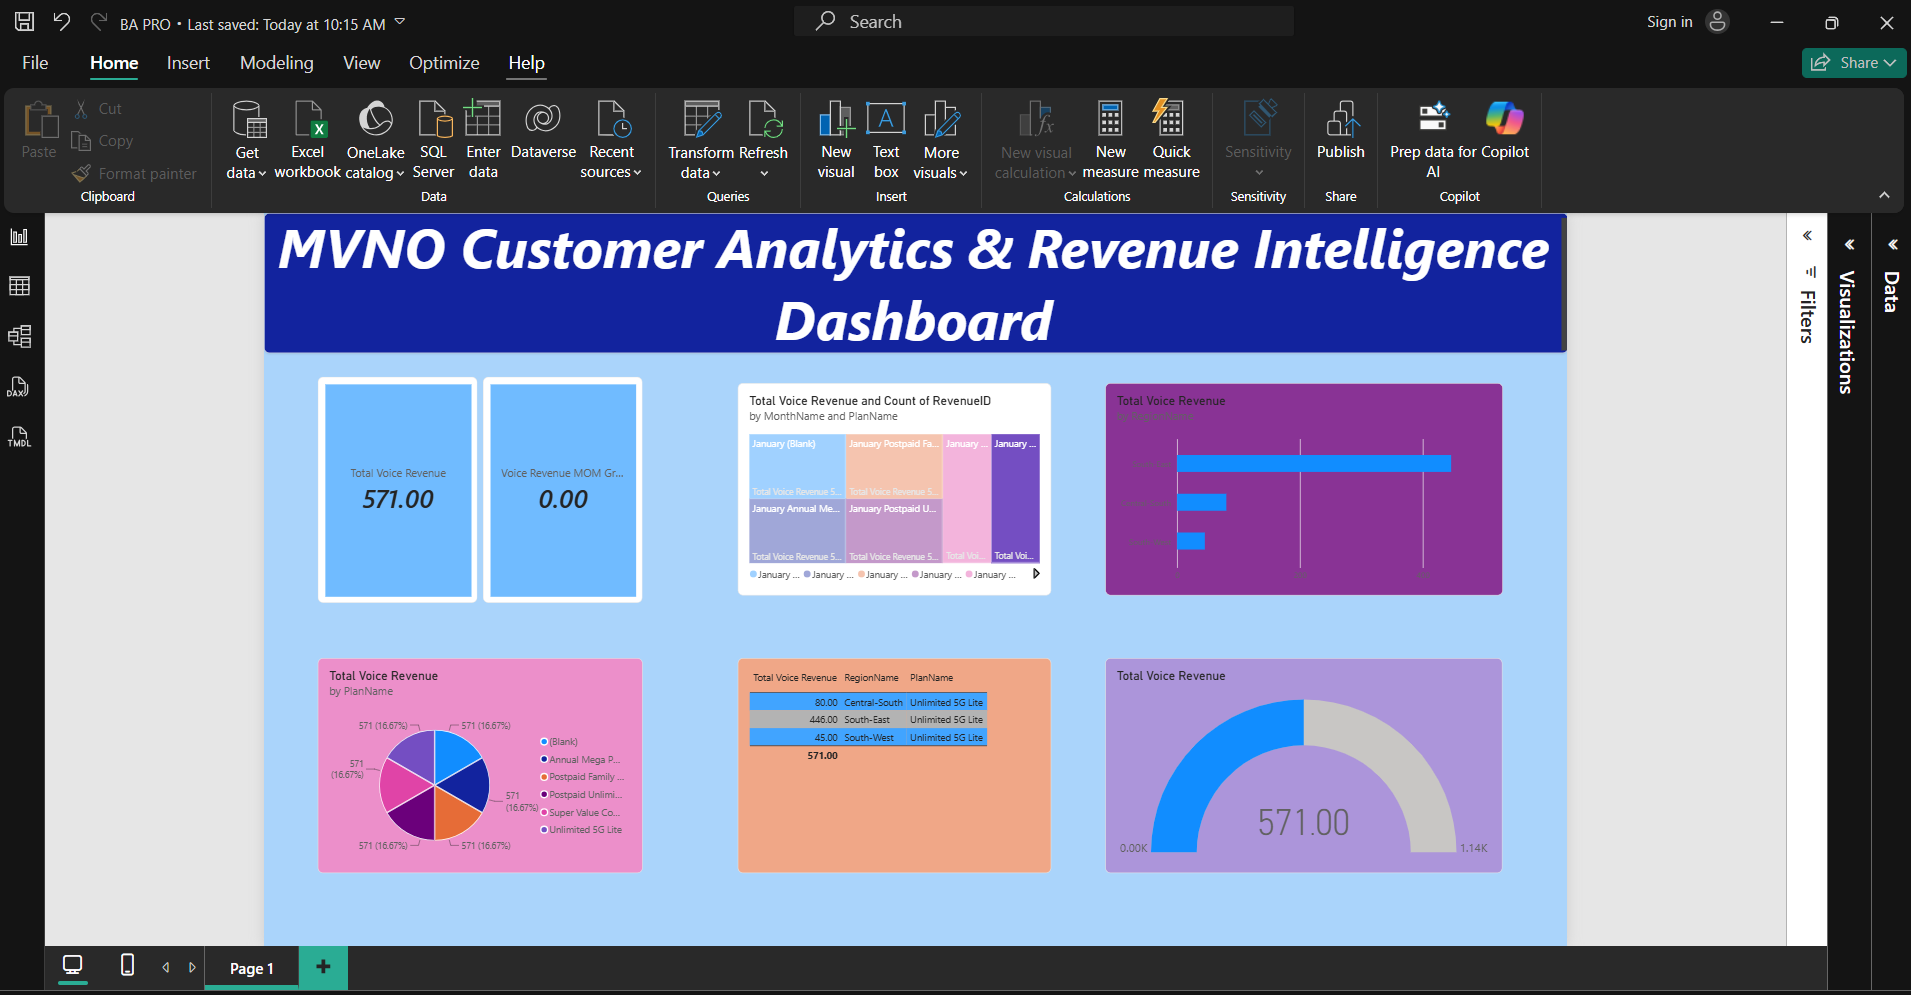

Layout of this report page (visuals, bound fields, positions):
{"tool":"powerbi","page":{"name":"Page 1","canvas":[1920,1080],"ordinal":0},"visuals":[{"type":"cardVisual","fields":{"Data":["Measure Table.Total Voice Revenue","Measure Table.Voice Revenue MOM Growth"]},"box":[79.1,241.1,478.5,333.1],"z":0},{"type":"barChart","fields":{"Category":["Dim_Region.RegionName"],"Y":["Measure Table.Total Voice Revenue"]},"box":[1238.7,250.3,585.3,312.9],"z":1},{"type":"treemap","fields":{"Group":["Dim_Date.MonthName","Dim_Plan.PlanName"],"Values":["Measure Table.Total Voice Revenue","CountNonNull(Fact_Revenue.RevenueID)"]},"box":[697.5,250.3,462,312.9],"z":2},{"type":"pieChart","fields":{"Category":["Dim_Plan.PlanName"],"Y":["Measure Table.Total Voice Revenue"]},"box":[79.1,655.2,478.5,316.6],"z":3},{"type":"tableEx","fields":{"Values":["Measure Table.Total Voice Revenue","Dim_Region.RegionName","Dim_Plan.PlanName"]},"box":[697.5,655.2,462,316.6],"z":4},{"type":"textbox","box":[0,0,1919.6,206.1],"z":5},{"type":"gauge","fields":{"Y":["Measure Table.Total Voice Revenue"]},"box":[1239,655,585,317],"z":6}]}

Visuals, with their boxes on the page's 1920x1080 design canvas (x1, y1, x2, y2). These are canvas units, not pixel positions in the 1911x995 screenshot, which may show the page scaled, cropped or inside an application window:
cardVisual - Measure Table.Total Voice Revenue x Measure Table.Voice Revenue MOM Growth: (left=79, top=241, right=558, bottom=574)
barChart - Dim_Region.RegionName x Measure Table.Total Voice Revenue: (left=1239, top=250, right=1824, bottom=563)
treemap - Dim_Date.MonthName x Dim_Plan.PlanName: (left=698, top=250, right=1160, bottom=563)
pieChart - Dim_Plan.PlanName x Measure Table.Total Voice Revenue: (left=79, top=655, right=558, bottom=972)
tableEx - Measure Table.Total Voice Revenue x Dim_Region.RegionName: (left=698, top=655, right=1160, bottom=972)
textbox: (left=0, top=0, right=1920, bottom=206)
gauge - Measure Table.Total Voice Revenue: (left=1239, top=655, right=1824, bottom=972)
